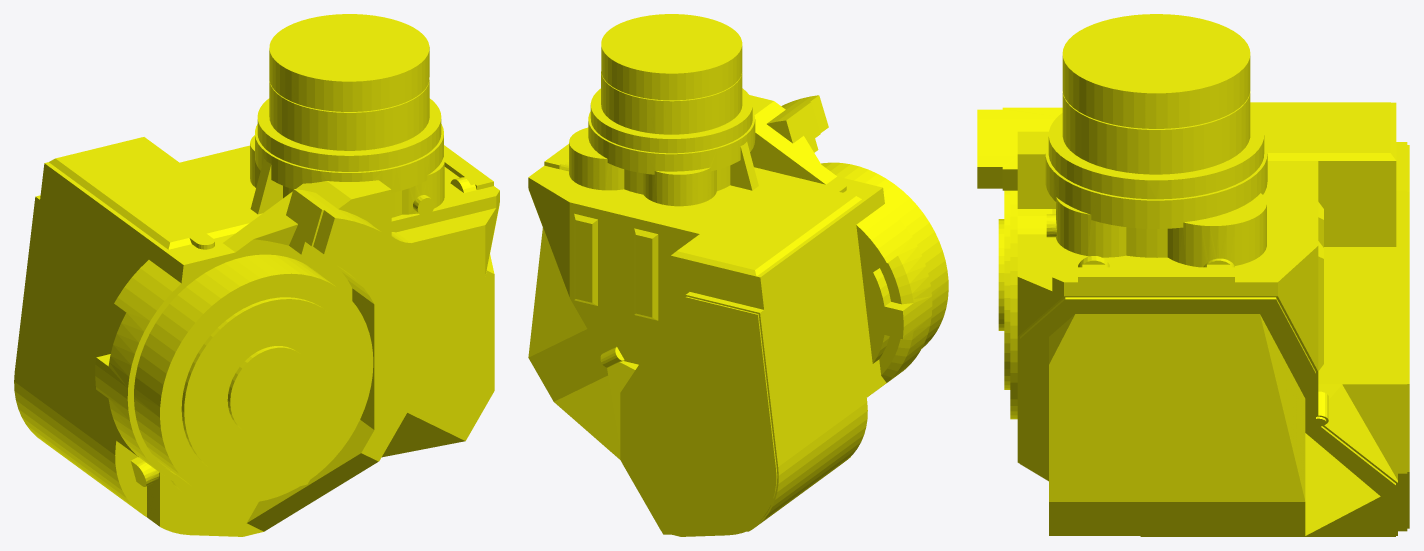
3 renders of one model, left to right at view 1: azimuth 30°, elevation 25°; view 2: azimuth 150°, elevation 25°; view 3: azimuth 270°, elevation 25°, orthographic. The views are drawn at different scales.
Parts seen in each view (by area): view 1: node; view 2: node; view 3: node.
Part boxes in pixels (box(x1,y1,x2,y2)): node: box(14, 14, 499, 536); node: box(528, 14, 948, 536); node: box(977, 14, 1409, 536).
Size of the model in its own units: 433 by 511 by 374.
